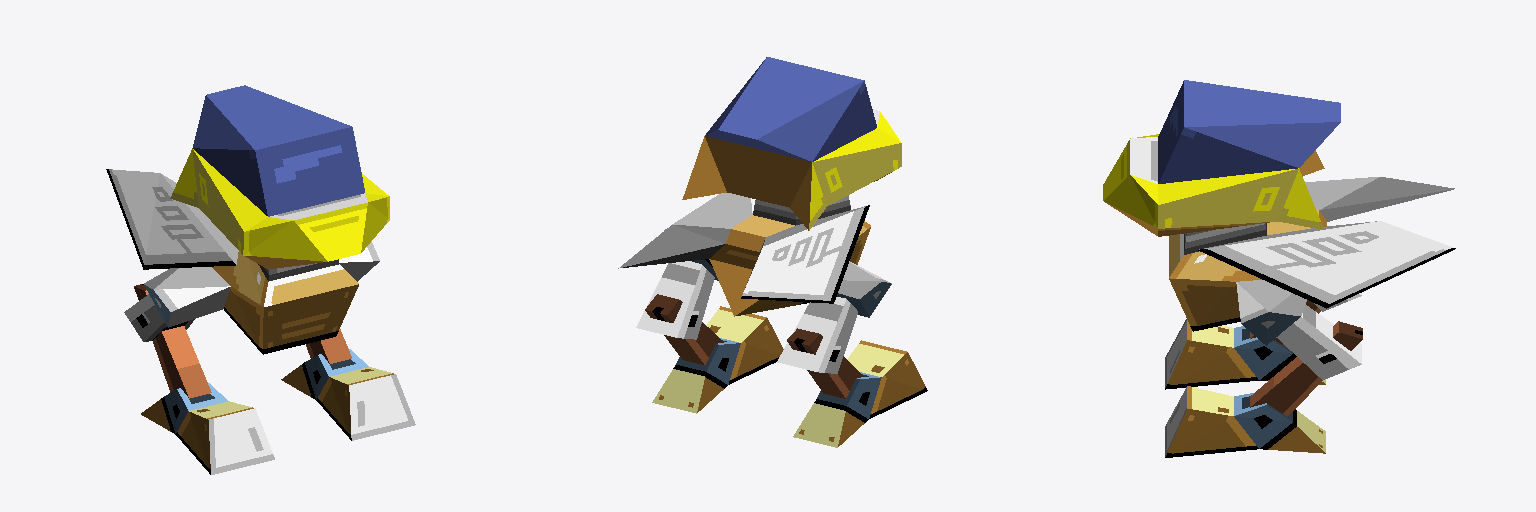
The picture shows the model from 3 angles: view 1: azimuth 30°, elevation 25°; view 2: azimuth 150°, elevation 25°; view 3: azimuth 270°, elevation 25°; orthographic projection.
Visible parts, largest first — view 1: Cube; view 2: Cube; view 3: Cube.
Part boxes in pixels (x1,y1,x2,y2): Cube: (106,85,415,474); Cube: (618,57,927,447); Cube: (1103,80,1455,457).
Size of the model in its own units: 3.44 by 4.63 by 4.87.
1 materials, 1 textured.